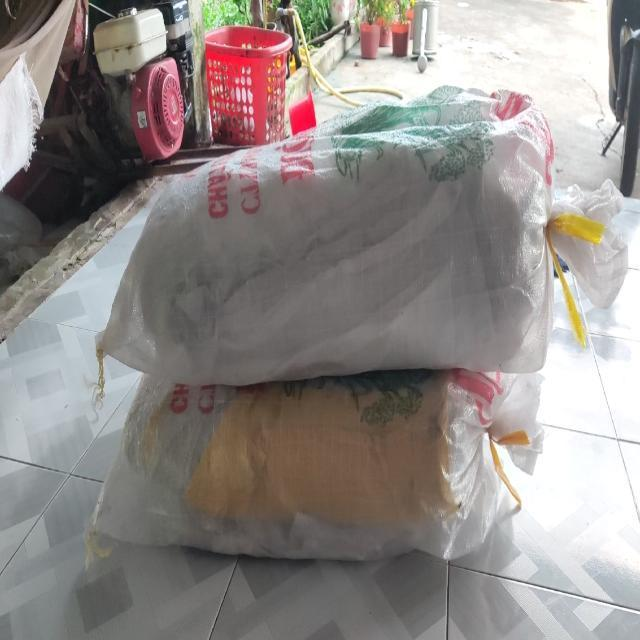gunny_bag: (97, 85, 554, 385), (88, 369, 542, 560)
